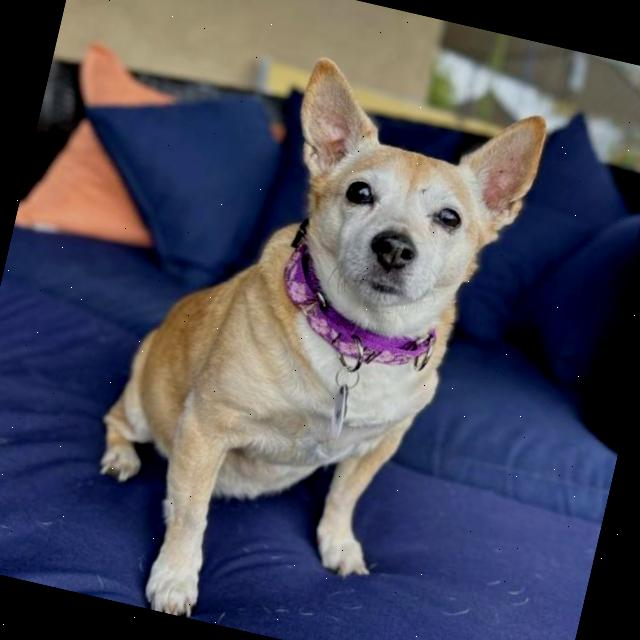corgi_dog: (229, 46, 579, 362)
